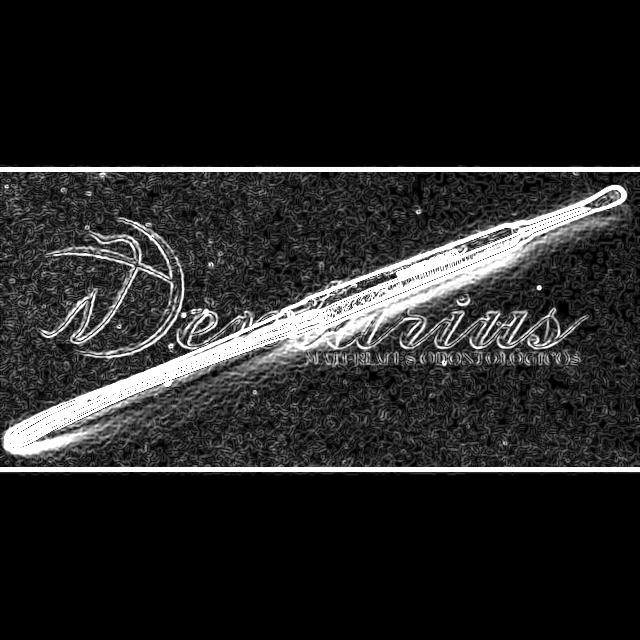elevador: (2, 183, 629, 458)
